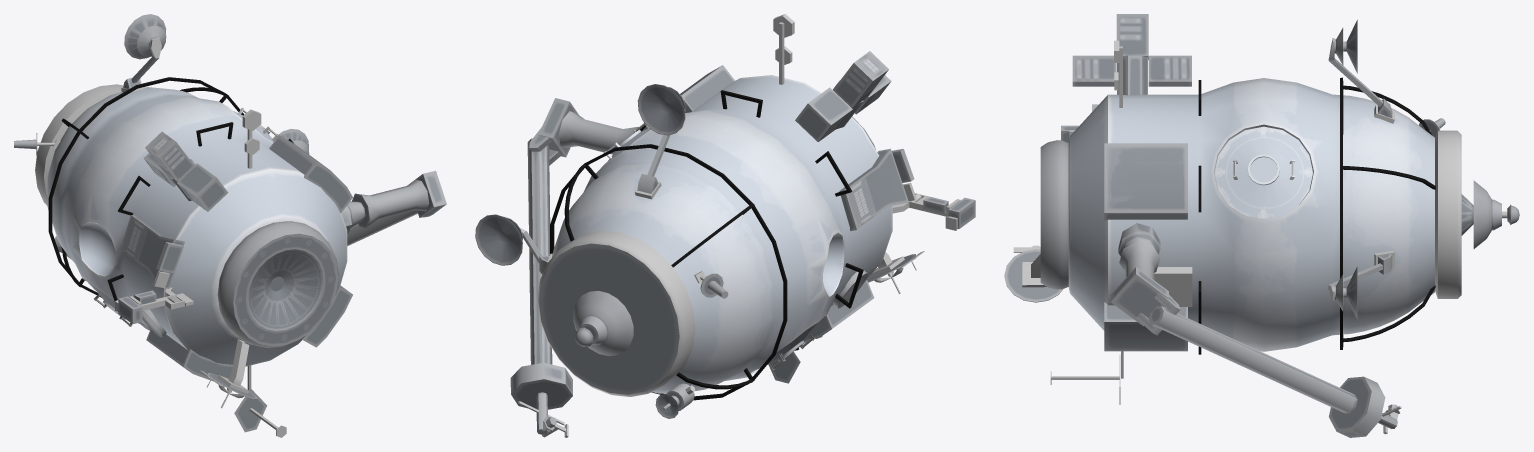
The model's file is Module_Poisk.fbx.
The picture shows the model from 3 angles, left to right: view 1: azimuth 30°, elevation 25°; view 2: azimuth 150°, elevation 25°; view 3: azimuth 270°, elevation 25°; orthographic projection. The views are drawn at different scales.
Visible parts, largest first — view 1: Module_Poisk; view 2: Module_Poisk; view 3: Module_Poisk.
Part boxes in pixels (x1,y1,x2,y2): Module_Poisk: (14, 14, 446, 437); Module_Poisk: (475, 14, 975, 437); Module_Poisk: (1004, 14, 1519, 437).
Size of the model in its own units: 228 by 211 by 260.
